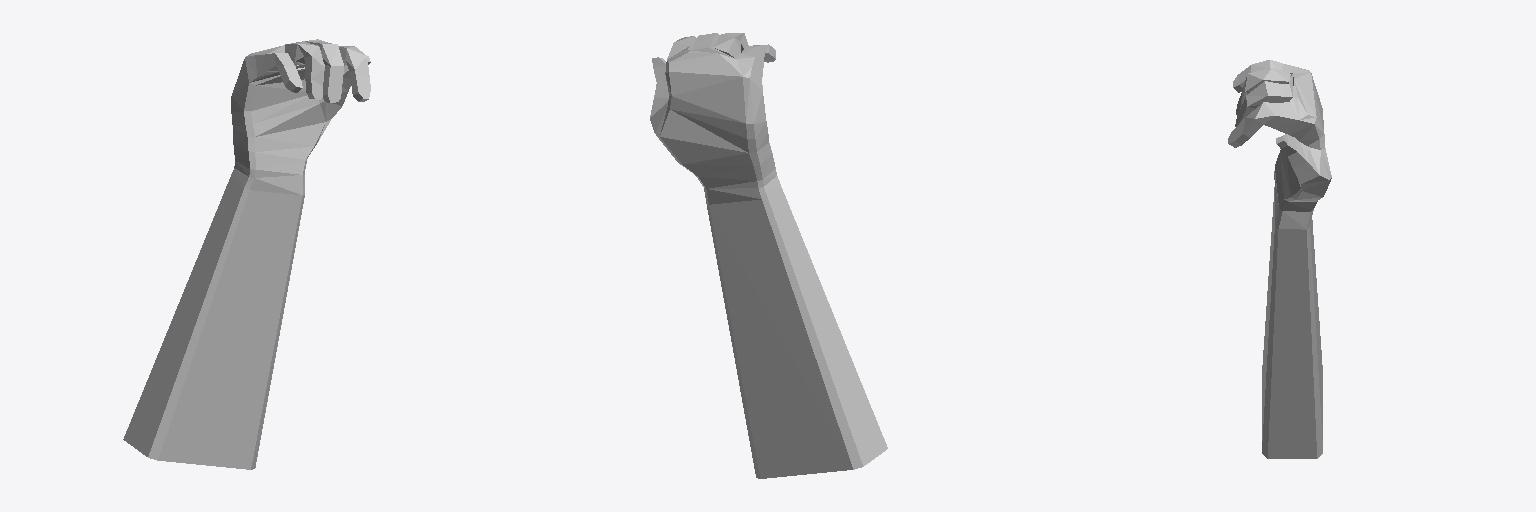
Rendered from hand_anim19.obj.
The picture shows the model from 3 angles: view 1: azimuth 30°, elevation 25°; view 2: azimuth 150°, elevation 25°; view 3: azimuth 270°, elevation 25°; orthographic projection.
Visible parts, largest first — view 1: Cube.001; view 2: Cube.001; view 3: Cube.001.
Boxes of the visible parts, x1,y1,x2,y2 form: Cube.001: [123, 39, 370, 469]; Cube.001: [650, 33, 887, 478]; Cube.001: [1228, 60, 1331, 458].
Bounding box in the file's own units: 1.67 × 2.88 × 0.66.